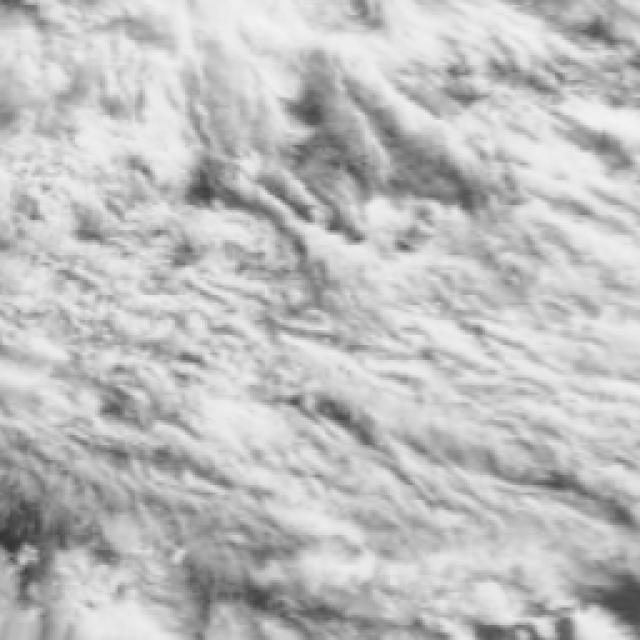CB: (117, 382, 400, 626), (36, 10, 275, 244), (422, 168, 633, 412)
